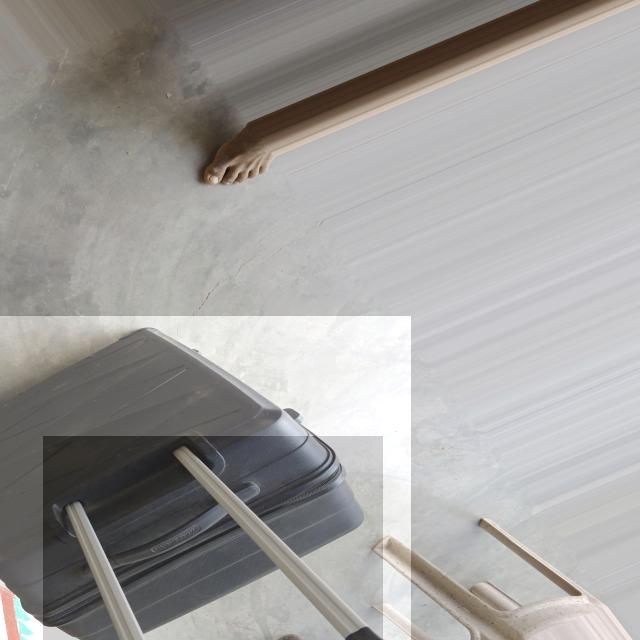Bag: (2, 314, 412, 640)
Handle: (40, 437, 385, 640)
